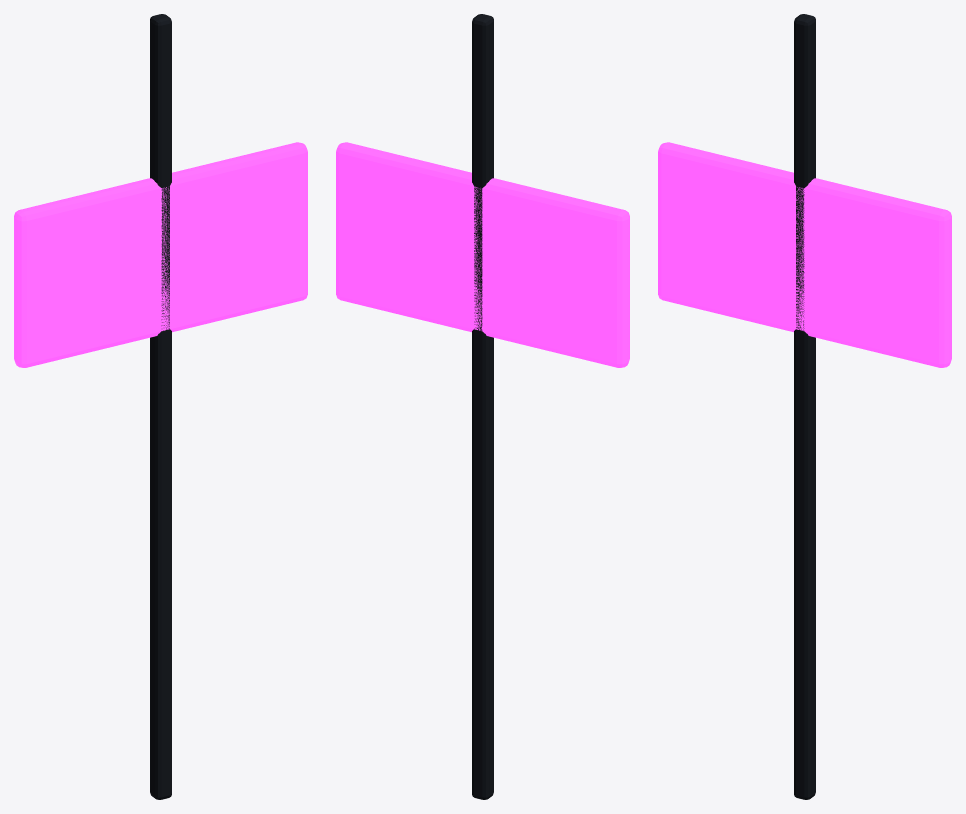
The model's file is Banner.fbx.
3 views of the same model, side by side, from view 1: azimuth 30°, elevation 25°; view 2: azimuth 150°, elevation 25°; view 3: azimuth 330°, elevation 25° (orthographic).
Parts seen in each view (by area): view 1: Banner_0; view 2: Banner_0; view 3: Banner_0.
Part boxes in pixels (x1,y1,x2,y2): Banner_0: [14, 14, 307, 799]; Banner_0: [336, 14, 629, 799]; Banner_0: [658, 14, 951, 799].
Bounding box in the file's own units: 1.4 × 3.6 × 0.08.
